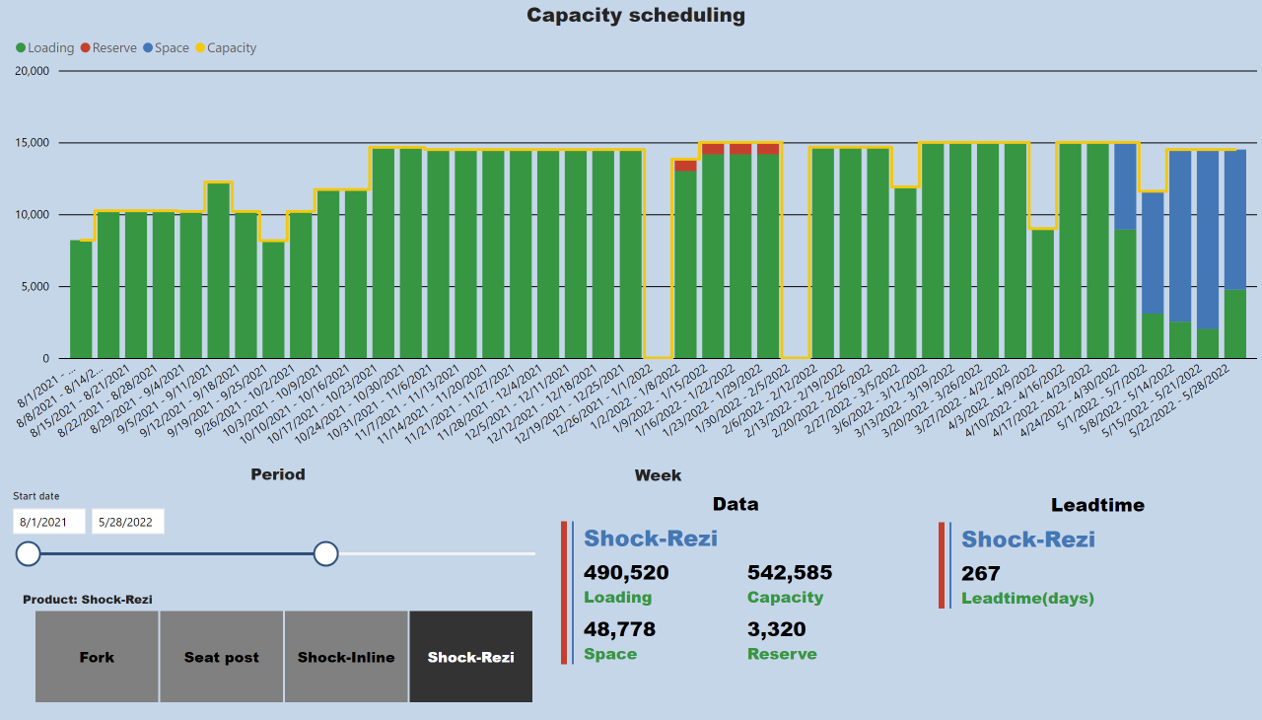

The dashboard page shown, as its layout file describes it:
{"tool":"powerbi","page":{"name":"Capacity review","canvas":[1280,720],"ordinal":0},"visuals":[{"type":"lineStackedColumnComboChart","title":"Capacity scheduling","fields":{"Y":["Sum(Scheduling_Summary.Loading)","Sum(Scheduling_Summary.Reserve)","Sum(Scheduling_Summary.Space)"],"Category":["Scheduling_Summary.Week"],"Y2":["Sum(Scheduling_Summary.Capacity)"]},"box":[9.8,0,1270.2,497.3],"z":0},{"type":"slicer","fields":{"Values":["Scheduling_Summary.Product"]},"box":[9.8,594.1,554,125.1],"z":1000},{"type":"slicer","title":"Period","fields":{"Values":["Scheduling_Summary.Start date"]},"box":[0,469.1,563.9,125],"z":2000},{"type":"multiRowCard","title":"Data","fields":{"Values":["Scheduling_Summary.Product","Sum(Scheduling_Summary.Loading)","Sum(Scheduling_Summary.Capacity)","Sum(Scheduling_Summary.Space)","Sum(Scheduling_Summary.Reserve)"]},"box":[563.8,497.3,364.5,221.8],"z":3000},{"type":"multiRowCard","title":"Leadtime","fields":{"Values":["LT.Product","Sum(LT.Leadtime(days))"]},"box":[946.8,498.3,333.2,221.8],"z":4000}]}

Visuals, with their boxes in screenshot pixels (x1, y1, x2, y2), scaled from the page's 1280x720 canvas onto the 1262x720 screenshot:
"Capacity scheduling" lineStackedColumnComboChart: rect(10, 0, 1261, 497)
slicer - Scheduling_Summary.Product: rect(10, 594, 556, 719)
"Period" slicer: rect(0, 469, 556, 594)
"Data" multiRowCard: rect(556, 497, 915, 719)
"Leadtime" multiRowCard: rect(933, 498, 1261, 719)
